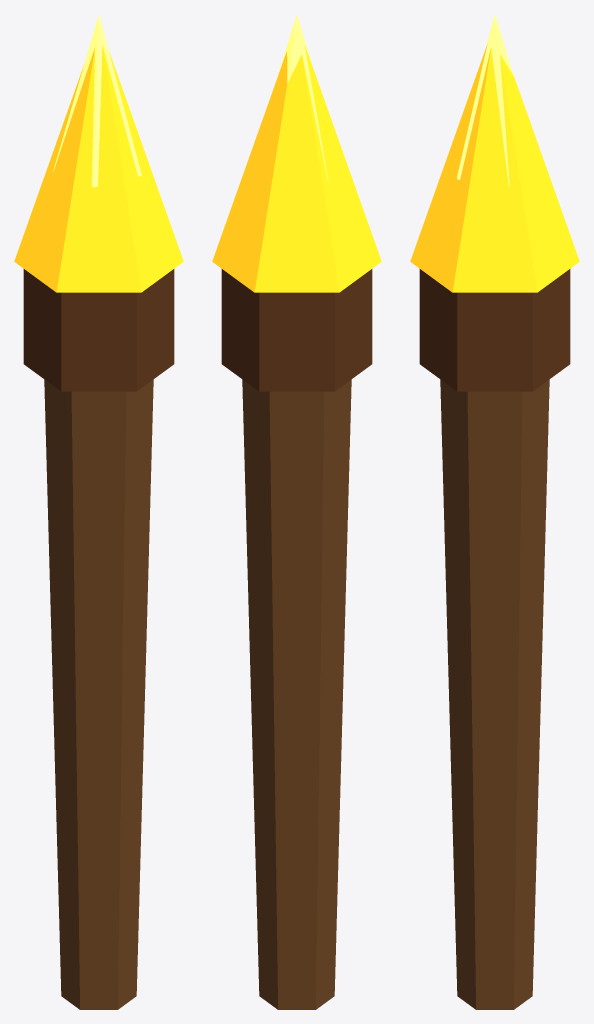
Rendered from torch.fbx.
3 views of the same model, side by side, from view 1: azimuth 30°, elevation 25°; view 2: azimuth 150°, elevation 25°; view 3: azimuth 270°, elevation 25° (orthographic).
Visible parts, largest first — view 1: torch; view 2: torch; view 3: torch.
Boxes of the visible parts, box(x1,y1,x2,y2) form: torch: box(14, 15, 183, 1009); torch: box(212, 15, 381, 1009); torch: box(410, 15, 579, 1009).
Size of the model in its own units: 0.0779 by 0.575 by 0.09.
